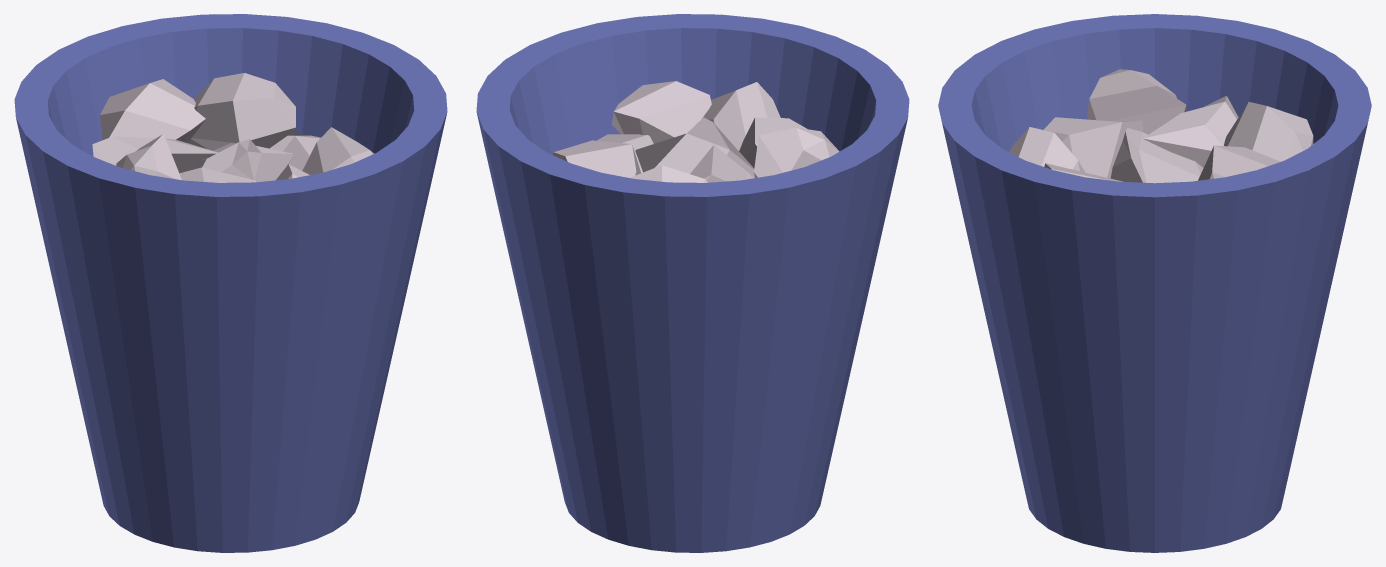
File: trashCan.fbx
3 views of the same model, side by side, from view 1: azimuth 30°, elevation 25°; view 2: azimuth 150°, elevation 25°; view 3: azimuth 270°, elevation 25° (orthographic).
Parts seen in each view (by area): view 1: Cylinder; view 2: Cylinder; view 3: Cylinder.
Part boxes in pixels (left/top/right/bottom): Cylinder: left=14, top=14, right=447, bottom=552; Cylinder: left=476, top=14, right=909, bottom=552; Cylinder: left=938, top=14, right=1371, bottom=552.
Bounding box in the file's own units: 200 × 200 × 200.
1 material, 1 textured.
